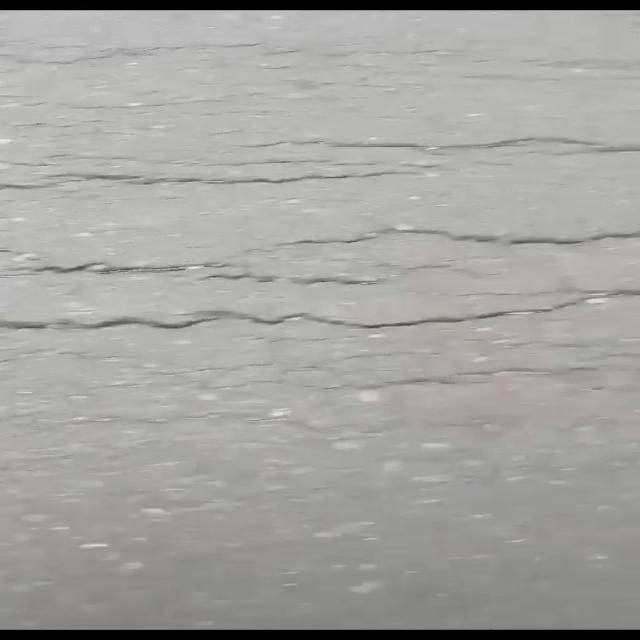Melintang: (0, 277, 640, 341), (0, 135, 640, 198), (275, 217, 640, 255)
